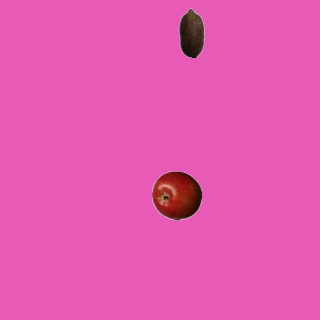Apple Braeburn: (151, 170, 201, 220)
Nut Pecan: (166, 7, 216, 57)
